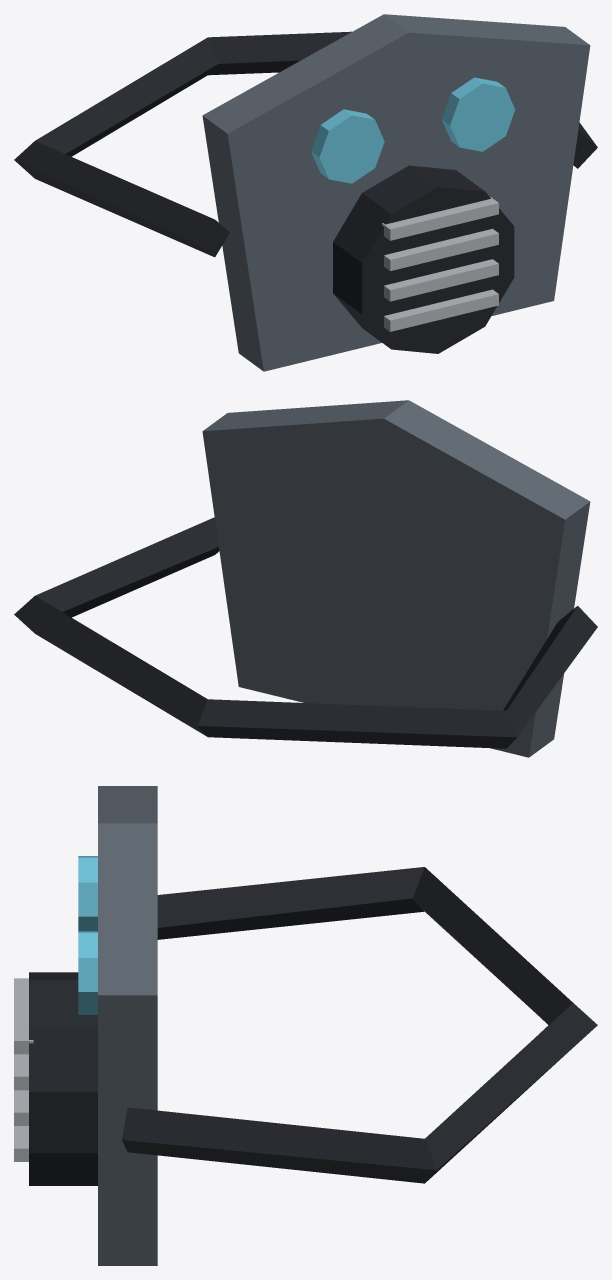
The model's file is vocoder-mask.glb.
3 renders of one model, top to bottom at view 1: azimuth 30°, elevation 25°; view 2: azimuth 150°, elevation 25°; view 3: azimuth 270°, elevation 25°, orthographic. The views are drawn at different scales.
Visible parts, largest first — view 1: m; view 2: m; view 3: m.
Boxes of the visible parts, x1,y1,x2,y2 form: m: (14,14,597,371); m: (14,400,597,757); m: (14,786,597,1265).
Bounding box in the file's own units: 0.1 × 0.0577 × 0.085.
